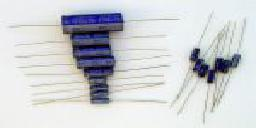Electrolytic-Capacitor: (7, 14, 194, 31), (15, 45, 183, 56), (18, 57, 175, 67), (13, 34, 169, 44), (190, 46, 218, 83), (24, 69, 172, 75)
